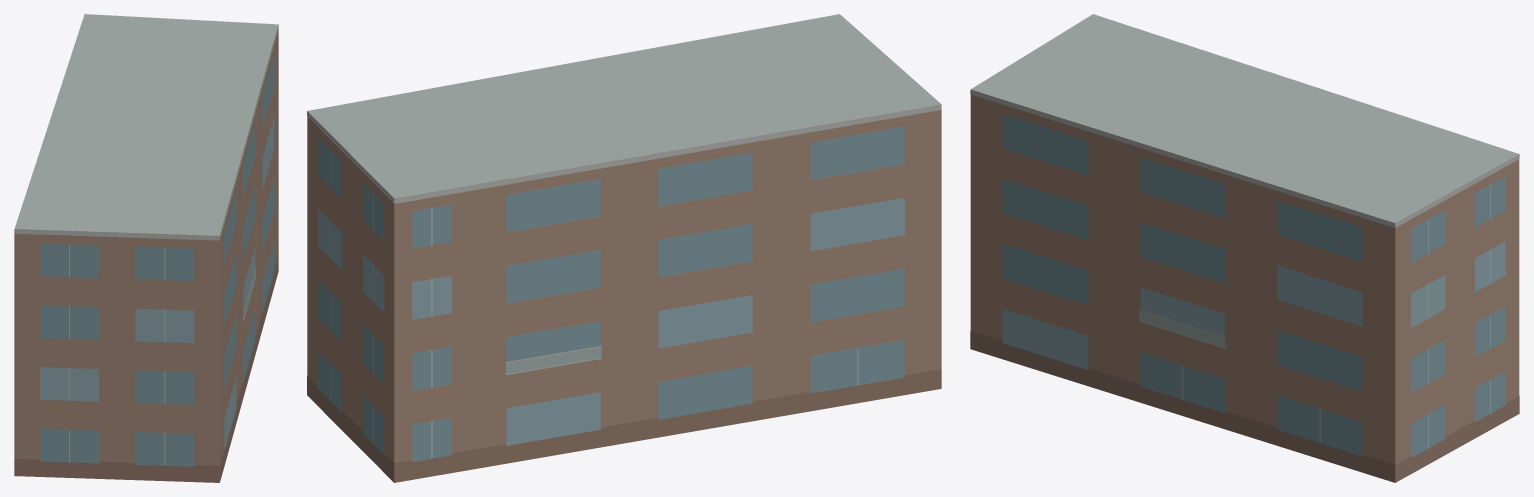
The model's file is survey-upis-32641449.glb.
The picture shows the model from 3 angles, left to right: view 1: azimuth 30°, elevation 25°; view 2: azimuth 150°, elevation 25°; view 3: azimuth 270°, elevation 25°; orthographic projection. The views are drawn at different scales.
Visible parts, largest first — view 1: survey-upis-32641449.tmp; view 2: survey-upis-32641449.tmp; view 3: survey-upis-32641449.tmp.
Boxes of the visible parts, bbox=[...] form: survey-upis-32641449.tmp: bbox=[14, 14, 278, 482]; survey-upis-32641449.tmp: bbox=[307, 14, 941, 482]; survey-upis-32641449.tmp: bbox=[970, 14, 1519, 482].
Size of the model in its own units: 22.12 by 12.8 by 24.53.
